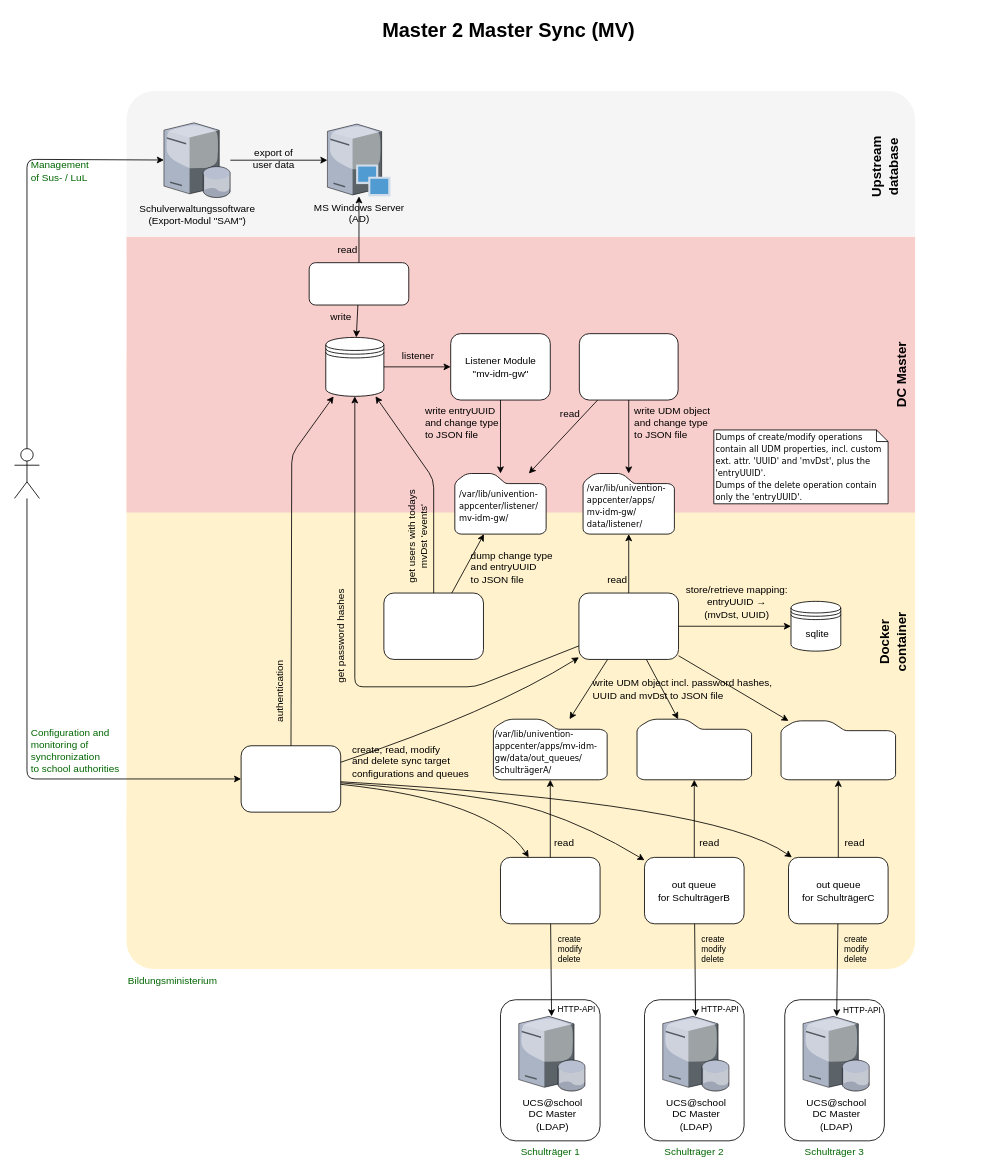
Image size: 1005x1172. Some labels were removed from this diagram. The centre of each missing label's shape, as x and y in pixels:
/var/lib/univention- appcenter/apps/ mv-idm- gw/data/out_queues/ SchulträgerB/: (x=694, y=749)
/var/lib/univention- appcenter/apps/ mv-idm- gw/data/out_queues/ SchulträgerC/: (x=838, y=750)
AD-connector: (x=358, y=283)
daemon: univention-appcenter-listener-converter@mv-idm-gw: (x=628, y=366)
daily cron job: (x=433, y=625)
in queue: (x=628, y=625)
Management HTTP API: (x=290, y=778)
OpenLDAP: (x=354, y=366)
out queue for SchulträgerA: (x=550, y=890)
